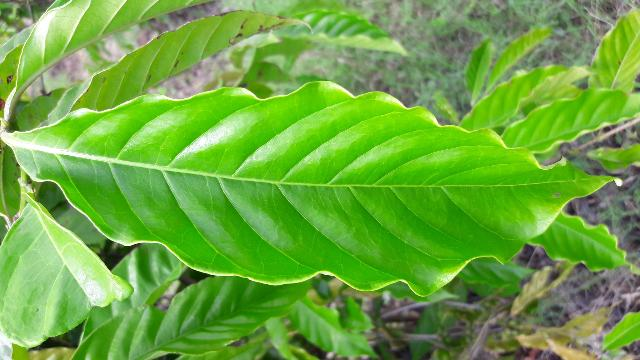healthy: (9, 81, 619, 293)
